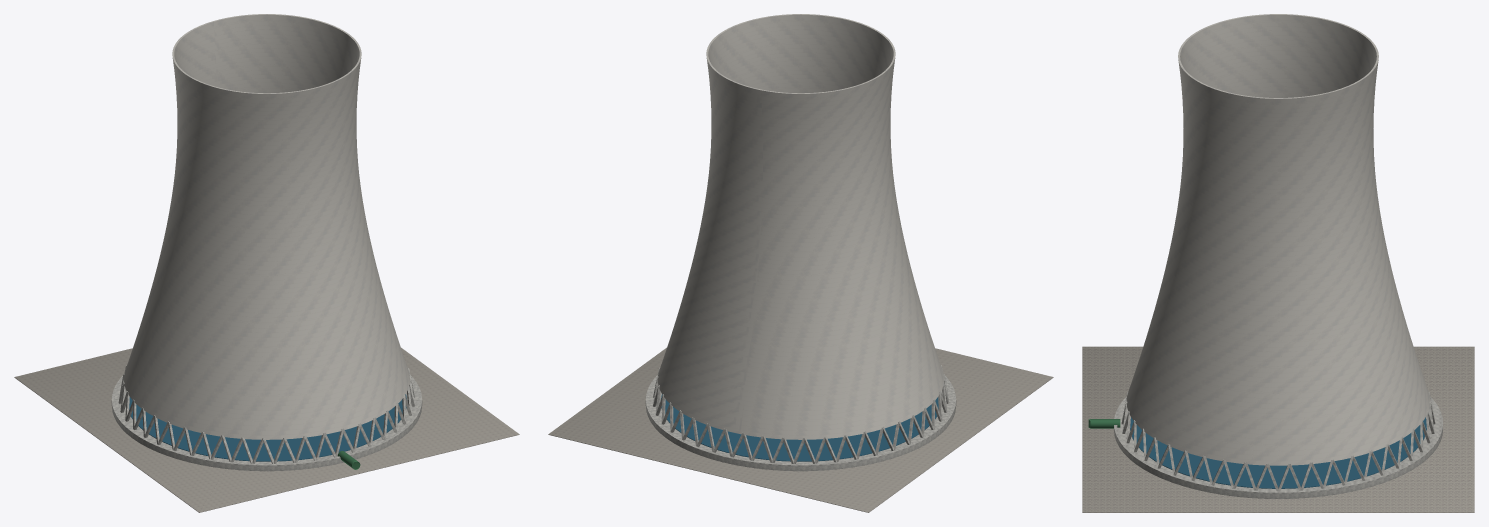
File: hyperboloid-cooling-tower.glb
3 renders of one model, left to right at view 1: azimuth 30°, elevation 25°; view 2: azimuth 150°, elevation 25°; view 3: azimuth 270°, elevation 25°, orthographic. The views are drawn at different scales.
Visible parts, largest first — view 1: Hyperboloid_Cooling_Tower; view 2: Hyperboloid_Cooling_Tower; view 3: Hyperboloid_Cooling_Tower.
Boxes of the visible parts, bbox=[...] form: Hyperboloid_Cooling_Tower: bbox=[14, 14, 519, 512]; Hyperboloid_Cooling_Tower: bbox=[548, 14, 1053, 512]; Hyperboloid_Cooling_Tower: bbox=[1082, 14, 1474, 512].
Size of the model in its own units: 124 by 130 by 124.
Materials: 5 (3 with a texture image).
